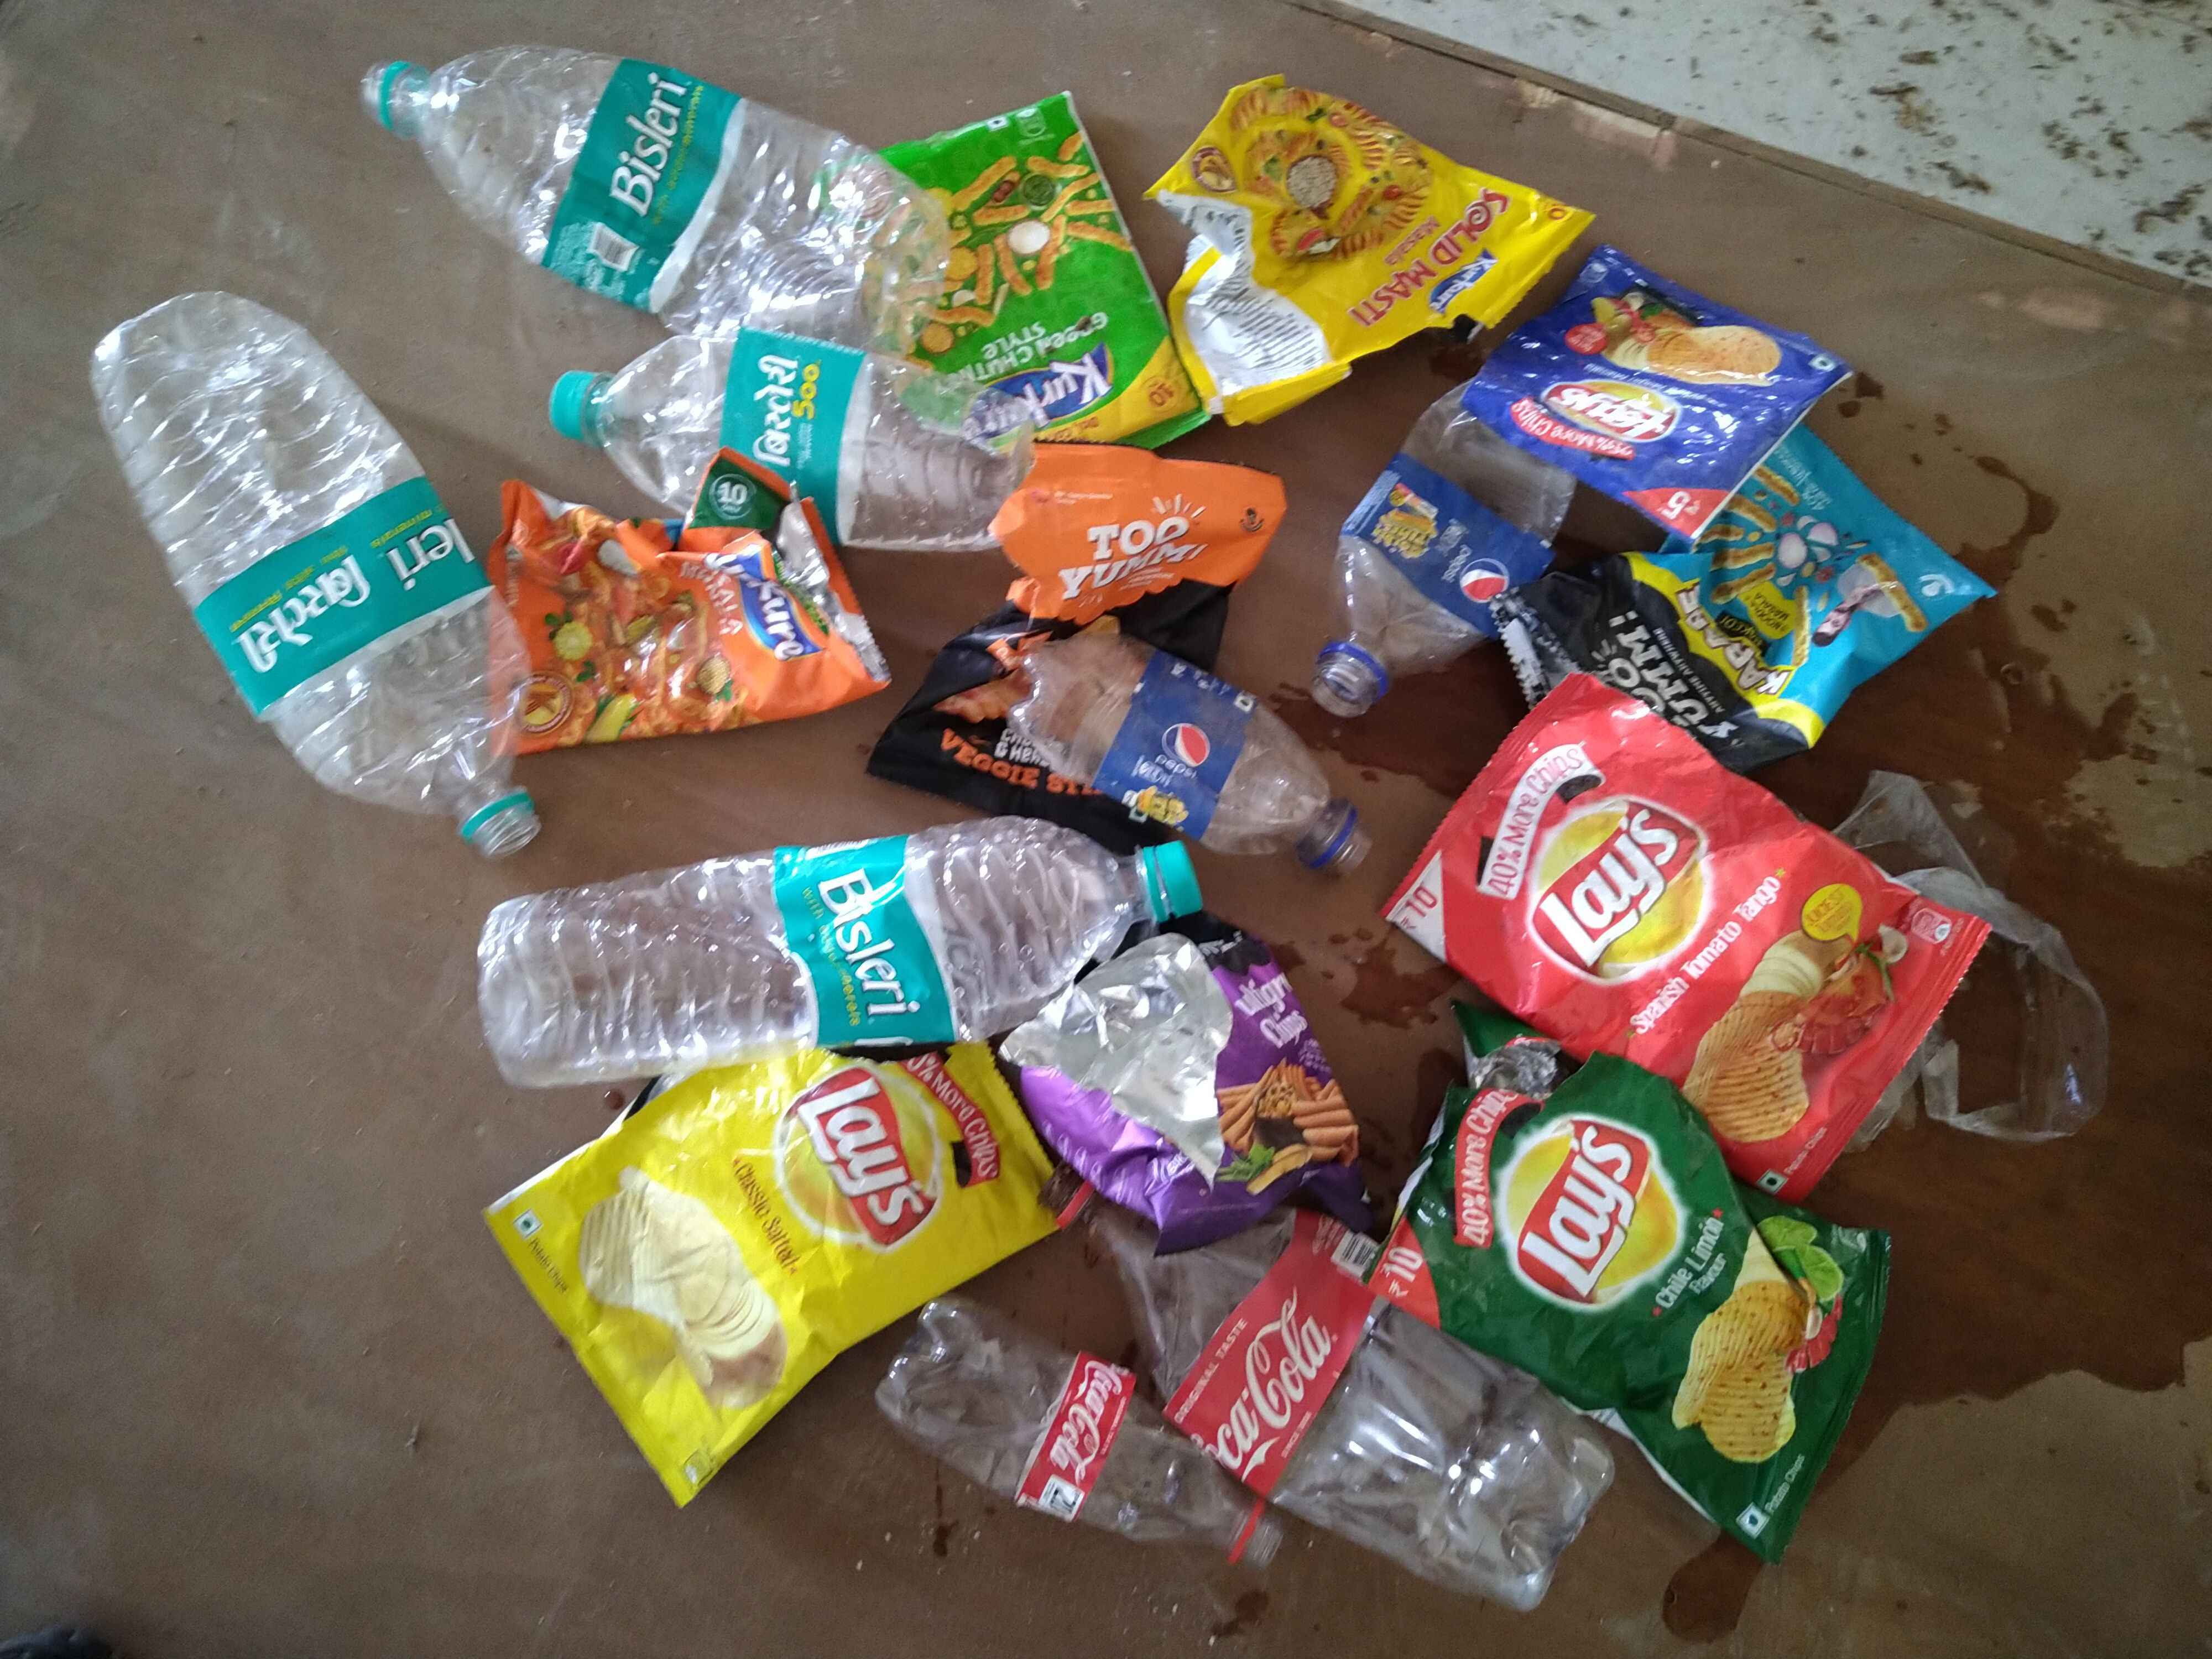Bisleri: (244, 526, 442, 685), (810, 843, 941, 1037), (590, 63, 698, 213), (737, 329, 824, 486)
Coca-Cola: (1191, 1291, 1334, 1486), (1050, 1356, 1125, 1476)
Lays: (763, 1042, 981, 1258), (1500, 786, 1742, 971), (1498, 1110, 1679, 1319), (1538, 361, 1691, 448)
kurkure: (719, 542, 836, 664), (953, 352, 1141, 413), (1414, 246, 1514, 328)
pepsi: (1430, 514, 1527, 619), (1139, 695, 1237, 800)
tooyumm: (1590, 601, 1763, 744), (1050, 504, 1224, 592), (1190, 931, 1261, 969)
